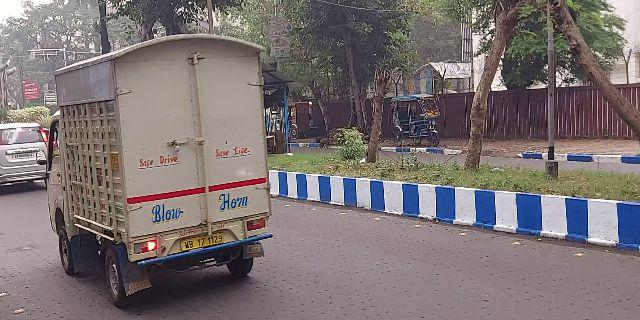Car: (1, 119, 44, 194)
Minitruck: (48, 32, 284, 305)
